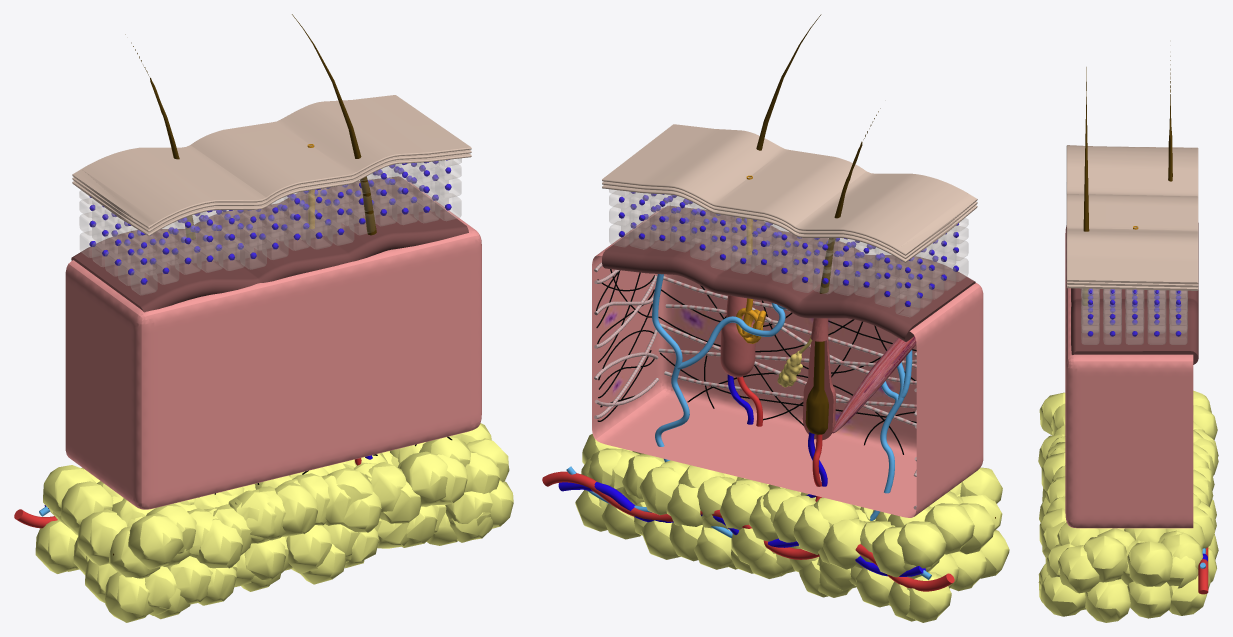
File: skin.glb
3 views of the same model, side by side, from view 1: azimuth 30°, elevation 25°; view 2: azimuth 150°, elevation 25°; view 3: azimuth 270°, elevation 25° (orthographic). The views are drawn at different scales.
Visible parts, largest first — view 1: boole_1, Mat_1, skin_color_1, epidermis_1, Mat.2_1, veins_1, hair_1; view 2: Mat_1, boole_1, skin_color_1, dermis_1, Mat.2_1, epidermis_1, veins_1, nerve_1, Cylinder.1_1, Mat.1_1, reticular_fibers_1, blood_1 (+4 smaller); view 3: boole_1, Mat_1, skin_color_1, Mat.2_1, epidermis_1, veins_1, hair_1, blood_1.
Part boxes in pixels (x1,y1,x2,y2): boole_1: (65, 180, 481, 509); Mat_1: (35, 423, 513, 622); skin_color_1: (72, 95, 471, 236); epidermis_1: (79, 158, 461, 295); Mat.2_1: (71, 176, 468, 312); veins_1: (44, 159, 451, 508); hair_1: (113, 14, 376, 555); Mat_1: (575, 434, 1009, 622); boole_1: (592, 208, 983, 517); skin_color_1: (602, 124, 977, 262); dermis_1: (593, 255, 917, 517); Mat.2_1: (602, 206, 975, 341); epidermis_1: (609, 189, 968, 316); veins_1: (558, 192, 958, 576); nerve_1: (566, 274, 931, 579); Cylinder.1_1: (658, 276, 916, 426); Mat.1_1: (720, 295, 835, 440); reticular_fibers_1: (596, 269, 916, 454); blood_1: (542, 376, 954, 591); boole_1: (1065, 225, 1193, 528); Mat_1: (1038, 390, 1218, 622); skin_color_1: (1066, 145, 1198, 290); Mat.2_1: (1071, 223, 1198, 364); epidermis_1: (1081, 288, 1187, 344); veins_1: (1087, 288, 1207, 561); hair_1: (1082, 56, 1172, 305); blood_1: (1198, 547, 1208, 594).
Size of the model in its own units: 7.61 by 9.38 by 3.17.
22 materials, 10 textured.
